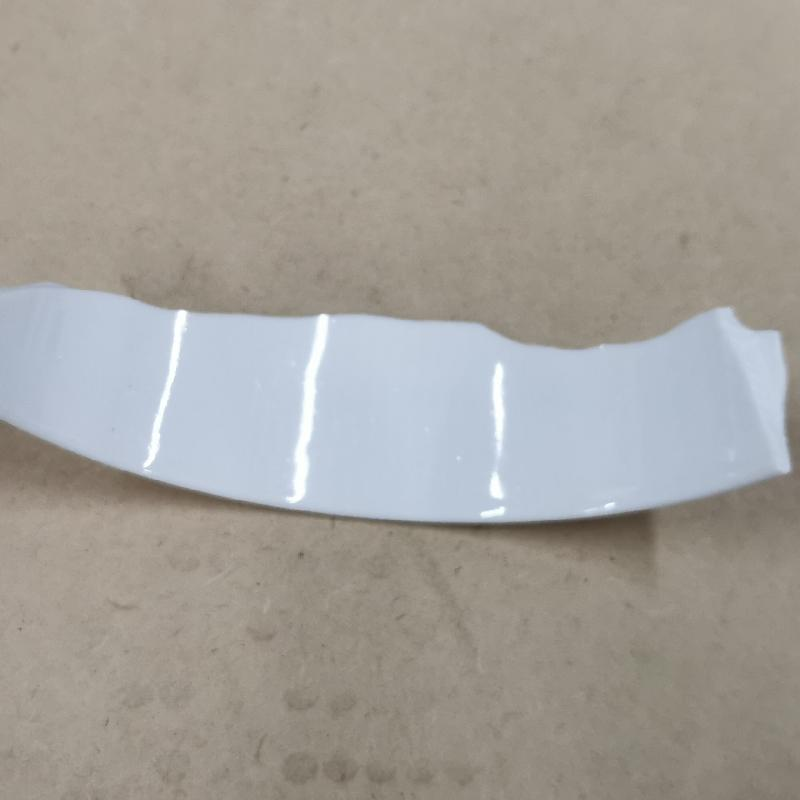ceram: (2, 278, 799, 528)
